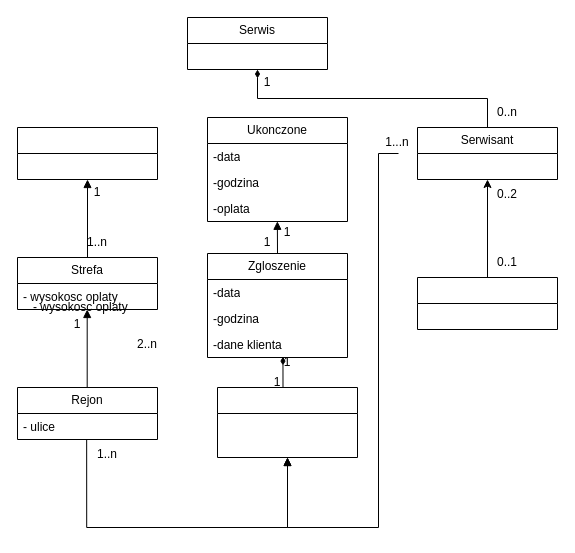
Image size: 575x553. Some labels were removed from this diagram. Here are the shapes that lost their labels. From the top down, the centre of each, then its label:
point (87, 153): Miasto
point (487, 303): Samochod
point (287, 422): Obslugiwany rejon
